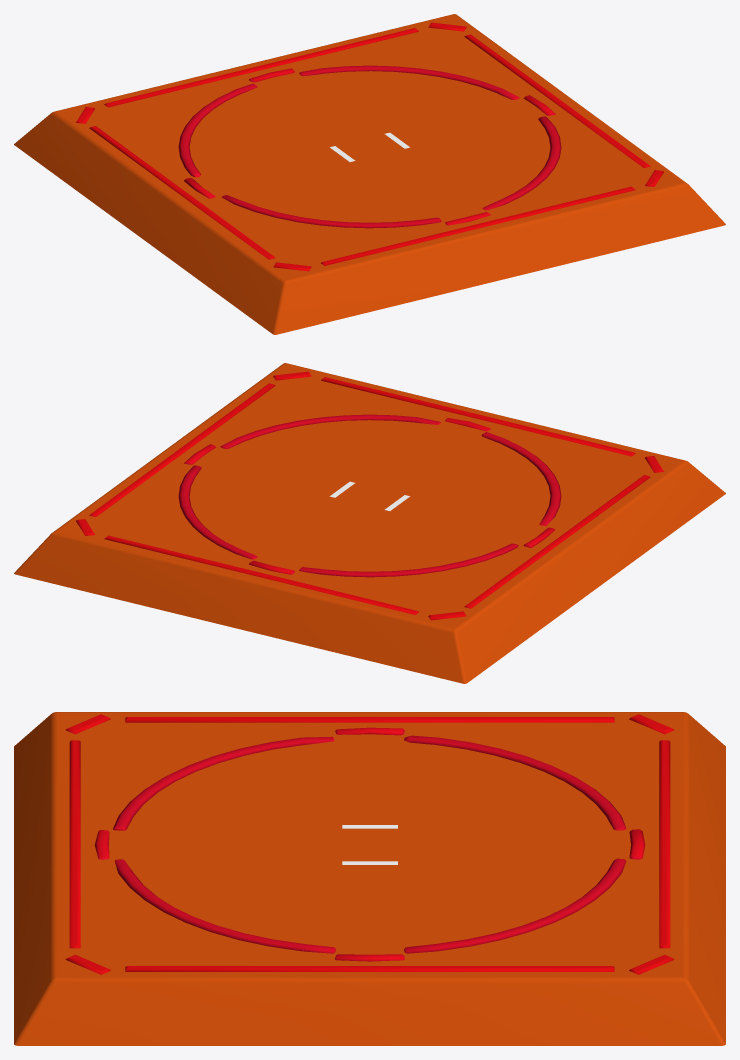
The model's file is ftd_Sumo_dohyou_2.fbx.
3 views of the same model, one above another, from view 1: azimuth 30°, elevation 25°; view 2: azimuth 150°, elevation 25°; view 3: azimuth 270°, elevation 25° (orthographic). The views are drawn at different scales.
Parts seen in each view (by area): view 1: Dohyou; view 2: Dohyou; view 3: Dohyou.
Boxes of the visible parts, left/top/right/bottom form: Dohyou: left=14, top=14, right=725, bottom=334; Dohyou: left=14, top=363, right=725, bottom=683; Dohyou: left=14, top=712, right=725, bottom=1045.
Bounding box in the file's own units: 6.4 × 0.5275 × 6.4.
